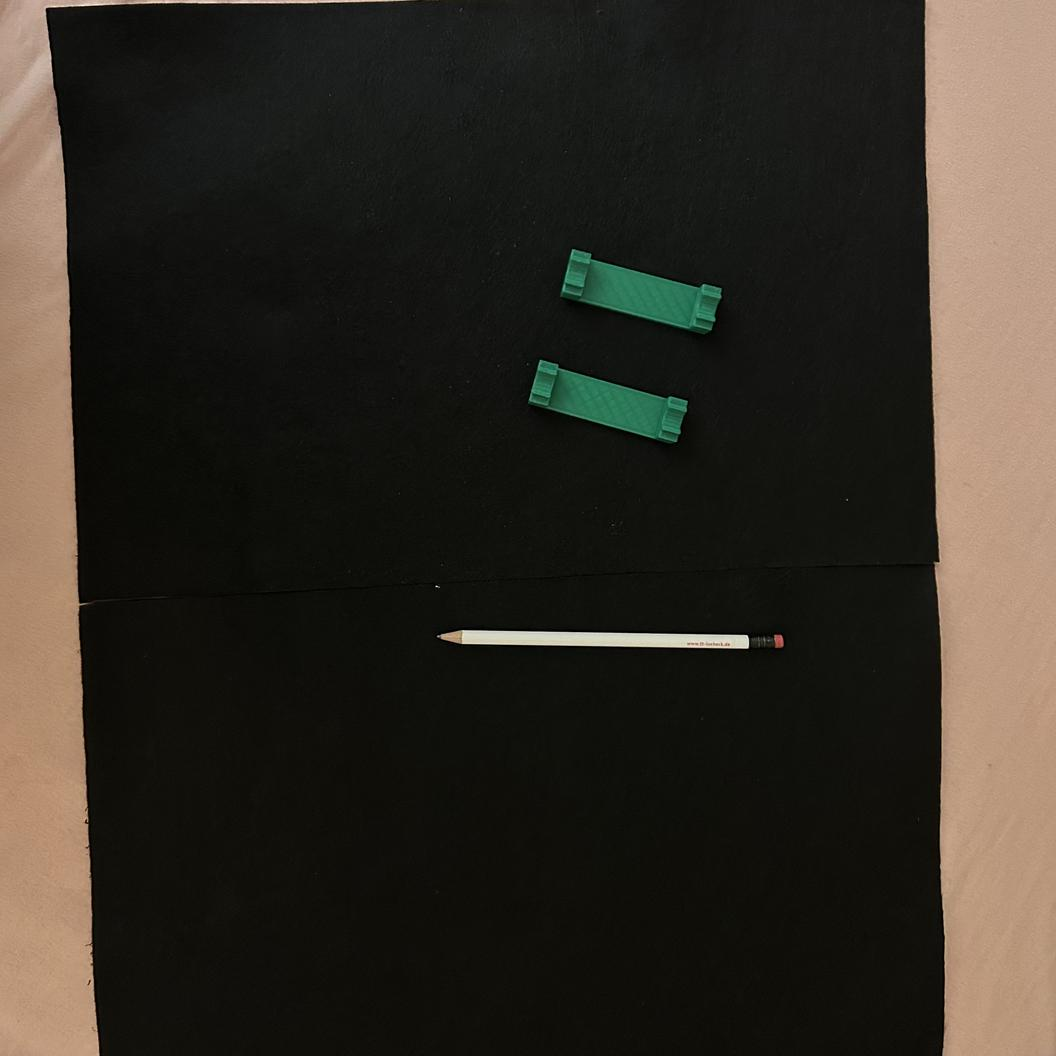holder: (561, 248, 723, 335), (527, 359, 689, 442)
pencil: (433, 627, 787, 650)
